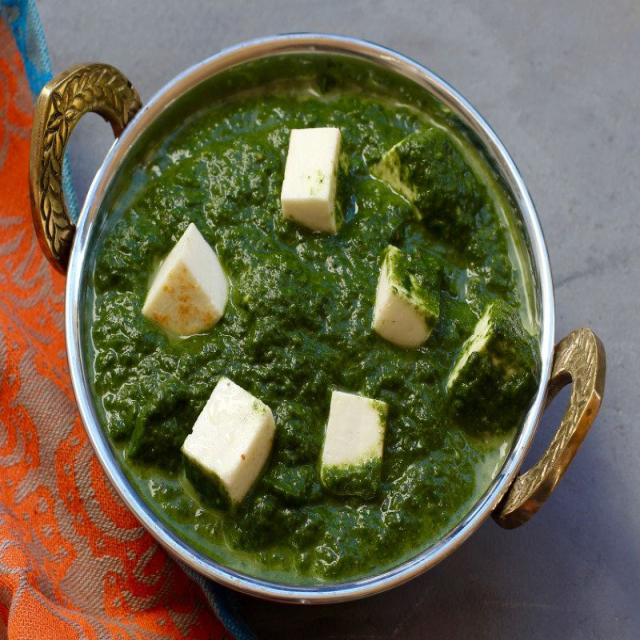Palak Paneer: (73, 74, 544, 589)
